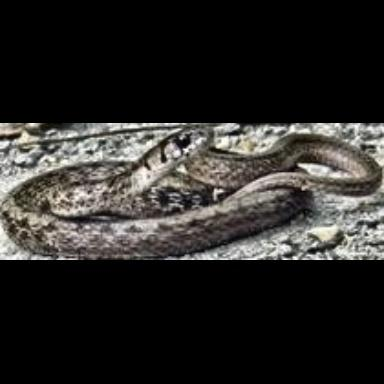snake: (0, 123, 383, 273)
